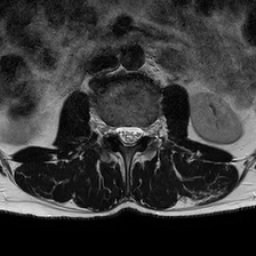CCS_normal: (124, 116, 132, 154)
LFS_normal: (142, 116, 152, 145)
LLS_normal: (132, 116, 142, 149)
RFS_normal: (107, 115, 115, 142)
RLS_normal: (115, 116, 124, 147)
